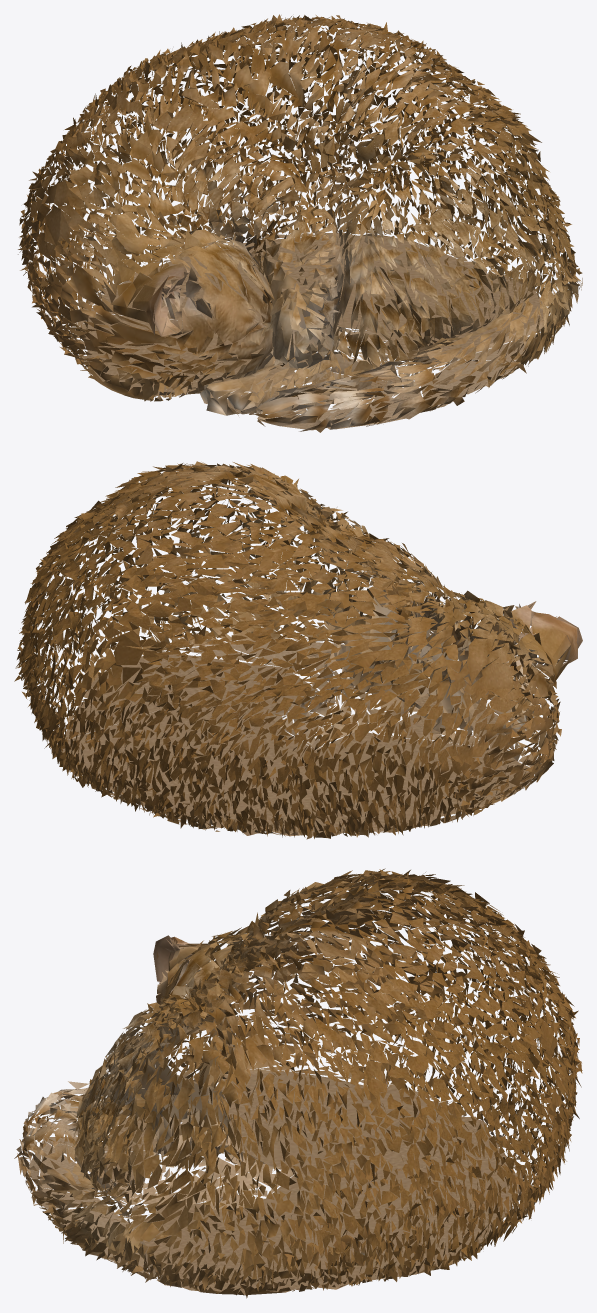
The model's file is kedi.glb.
The picture shows the model from 3 angles, top to bottom: view 1: azimuth 30°, elevation 25°; view 2: azimuth 150°, elevation 25°; view 3: azimuth 270°, elevation 25°; orthographic projection. The views are drawn at different scales.
Parts seen in each view (by area): view 1: Mesh_0; view 2: Mesh_0; view 3: Mesh_0.
Part boxes in pixels (x1,y1,x2,y2): Mesh_0: (18,14,582,432); Mesh_0: (14,461,582,839); Mesh_0: (14,868,582,1298).
Size of the model in its own units: 0.3116 by 0.1658 by 0.2859.
1 material, 1 textured.
